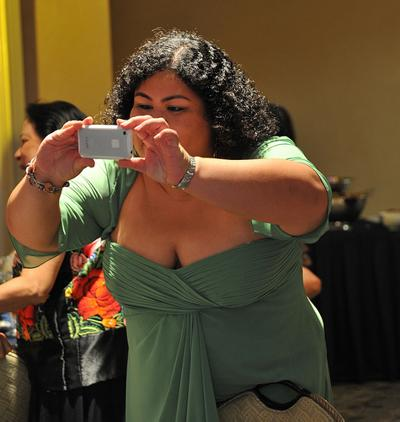person: (6, 30, 335, 419)
